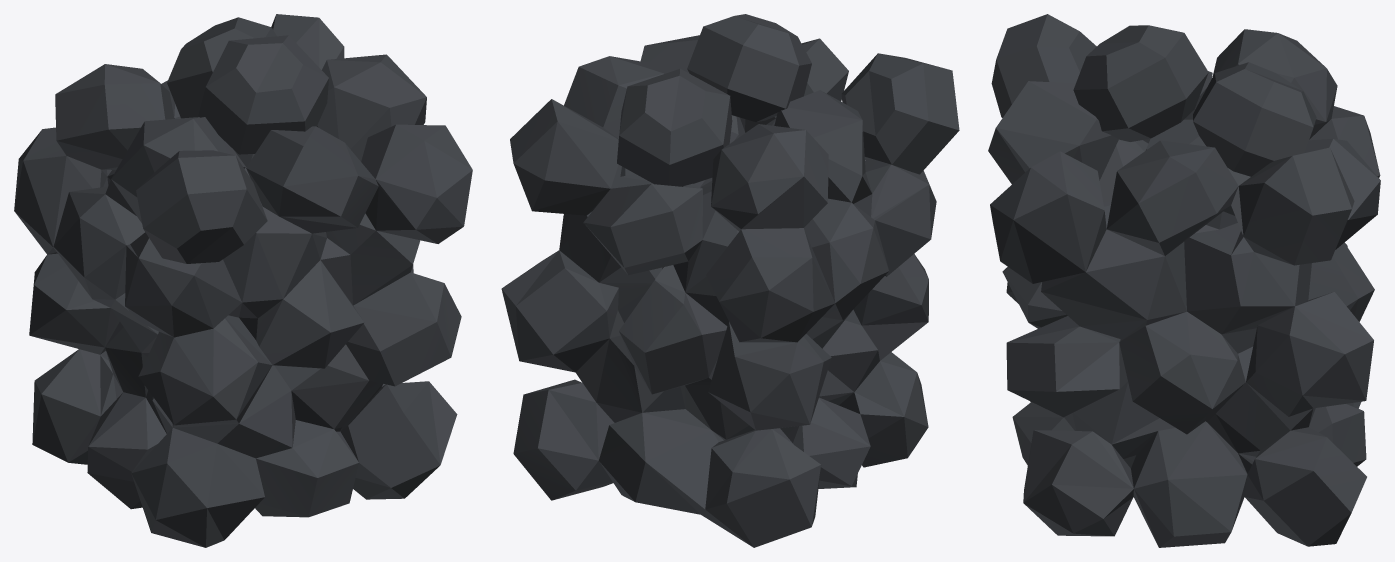
File: SM_Prop_Market_Fruit_Basket_01_Fruit.obj
3 views of the same model, side by side, from view 1: azimuth 30°, elevation 25°; view 2: azimuth 150°, elevation 25°; view 3: azimuth 270°, elevation 25° (orthographic). The views are drawn at different scales.
Parts seen in each view (by area): view 1: SM_Prop_Market_Fruit_Basket_01_Fruit_0; view 2: SM_Prop_Market_Fruit_Basket_01_Fruit_0; view 3: SM_Prop_Market_Fruit_Basket_01_Fruit_0.
Part boxes in pixels (x1,y1,x2,y2): SM_Prop_Market_Fruit_Basket_01_Fruit_0: (14, 14, 472, 547); SM_Prop_Market_Fruit_Basket_01_Fruit_0: (501, 14, 959, 547); SM_Prop_Market_Fruit_Basket_01_Fruit_0: (988, 14, 1380, 547).
Size of the model in its own units: 0.4803 by 0.6209 by 0.476.
Materials: 1 (1 with a texture image).
